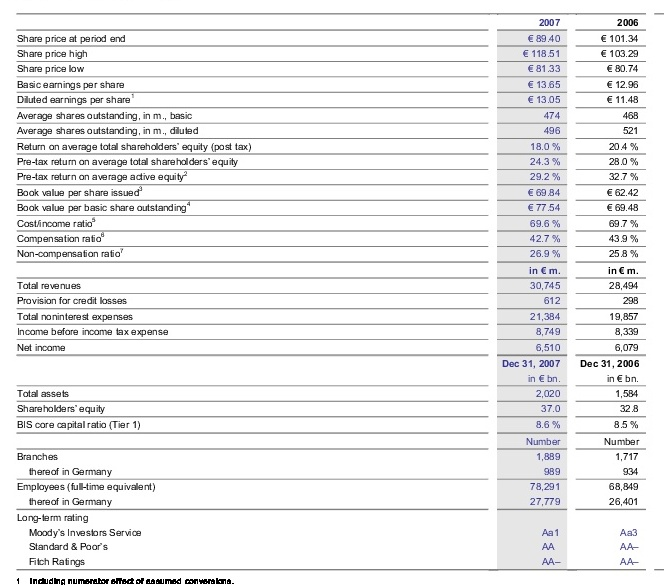table: (0, 0, 664, 585)
